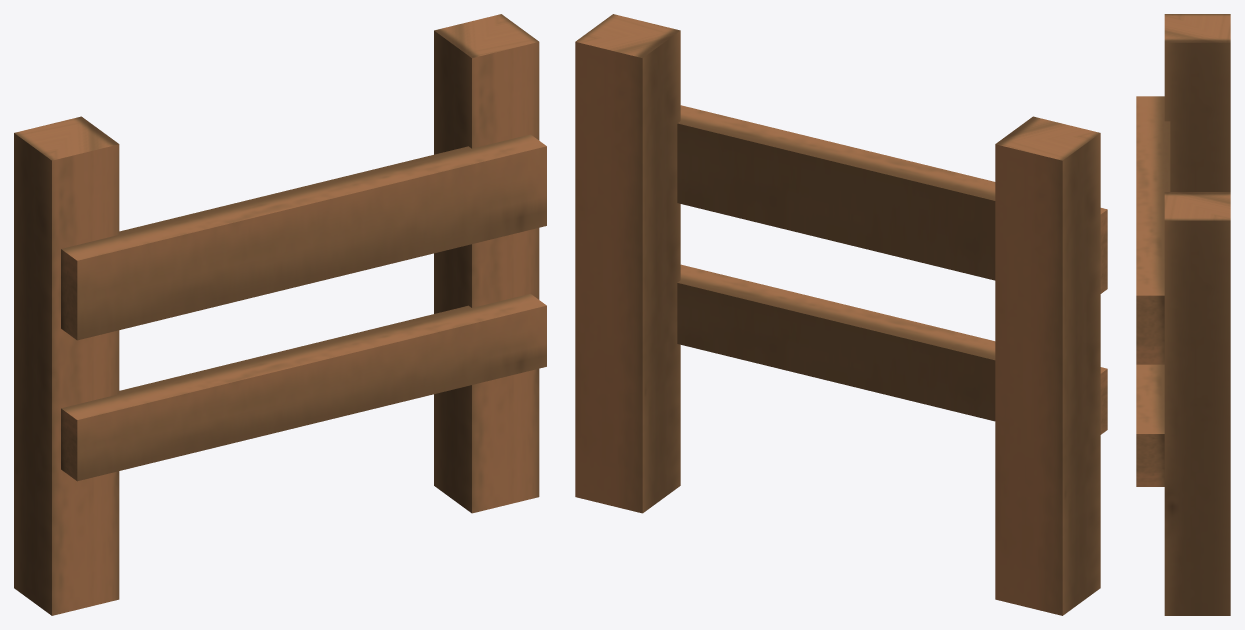
The model's file is Fence 1.fbx.
The picture shows the model from 3 angles, left to right: view 1: azimuth 30°, elevation 25°; view 2: azimuth 150°, elevation 25°; view 3: azimuth 270°, elevation 25°; orthographic projection. The views are drawn at different scales.
Visible parts, largest first — view 1: Fence 1; view 2: Fence 1; view 3: Fence 1.
Part boxes in pixels (x1,y1,x2,y2): Fence 1: (14, 14, 546, 615); Fence 1: (575, 14, 1107, 615); Fence 1: (1136, 14, 1230, 615).
Size of the model in its own units: 85.65 by 76.45 by 16.48.
